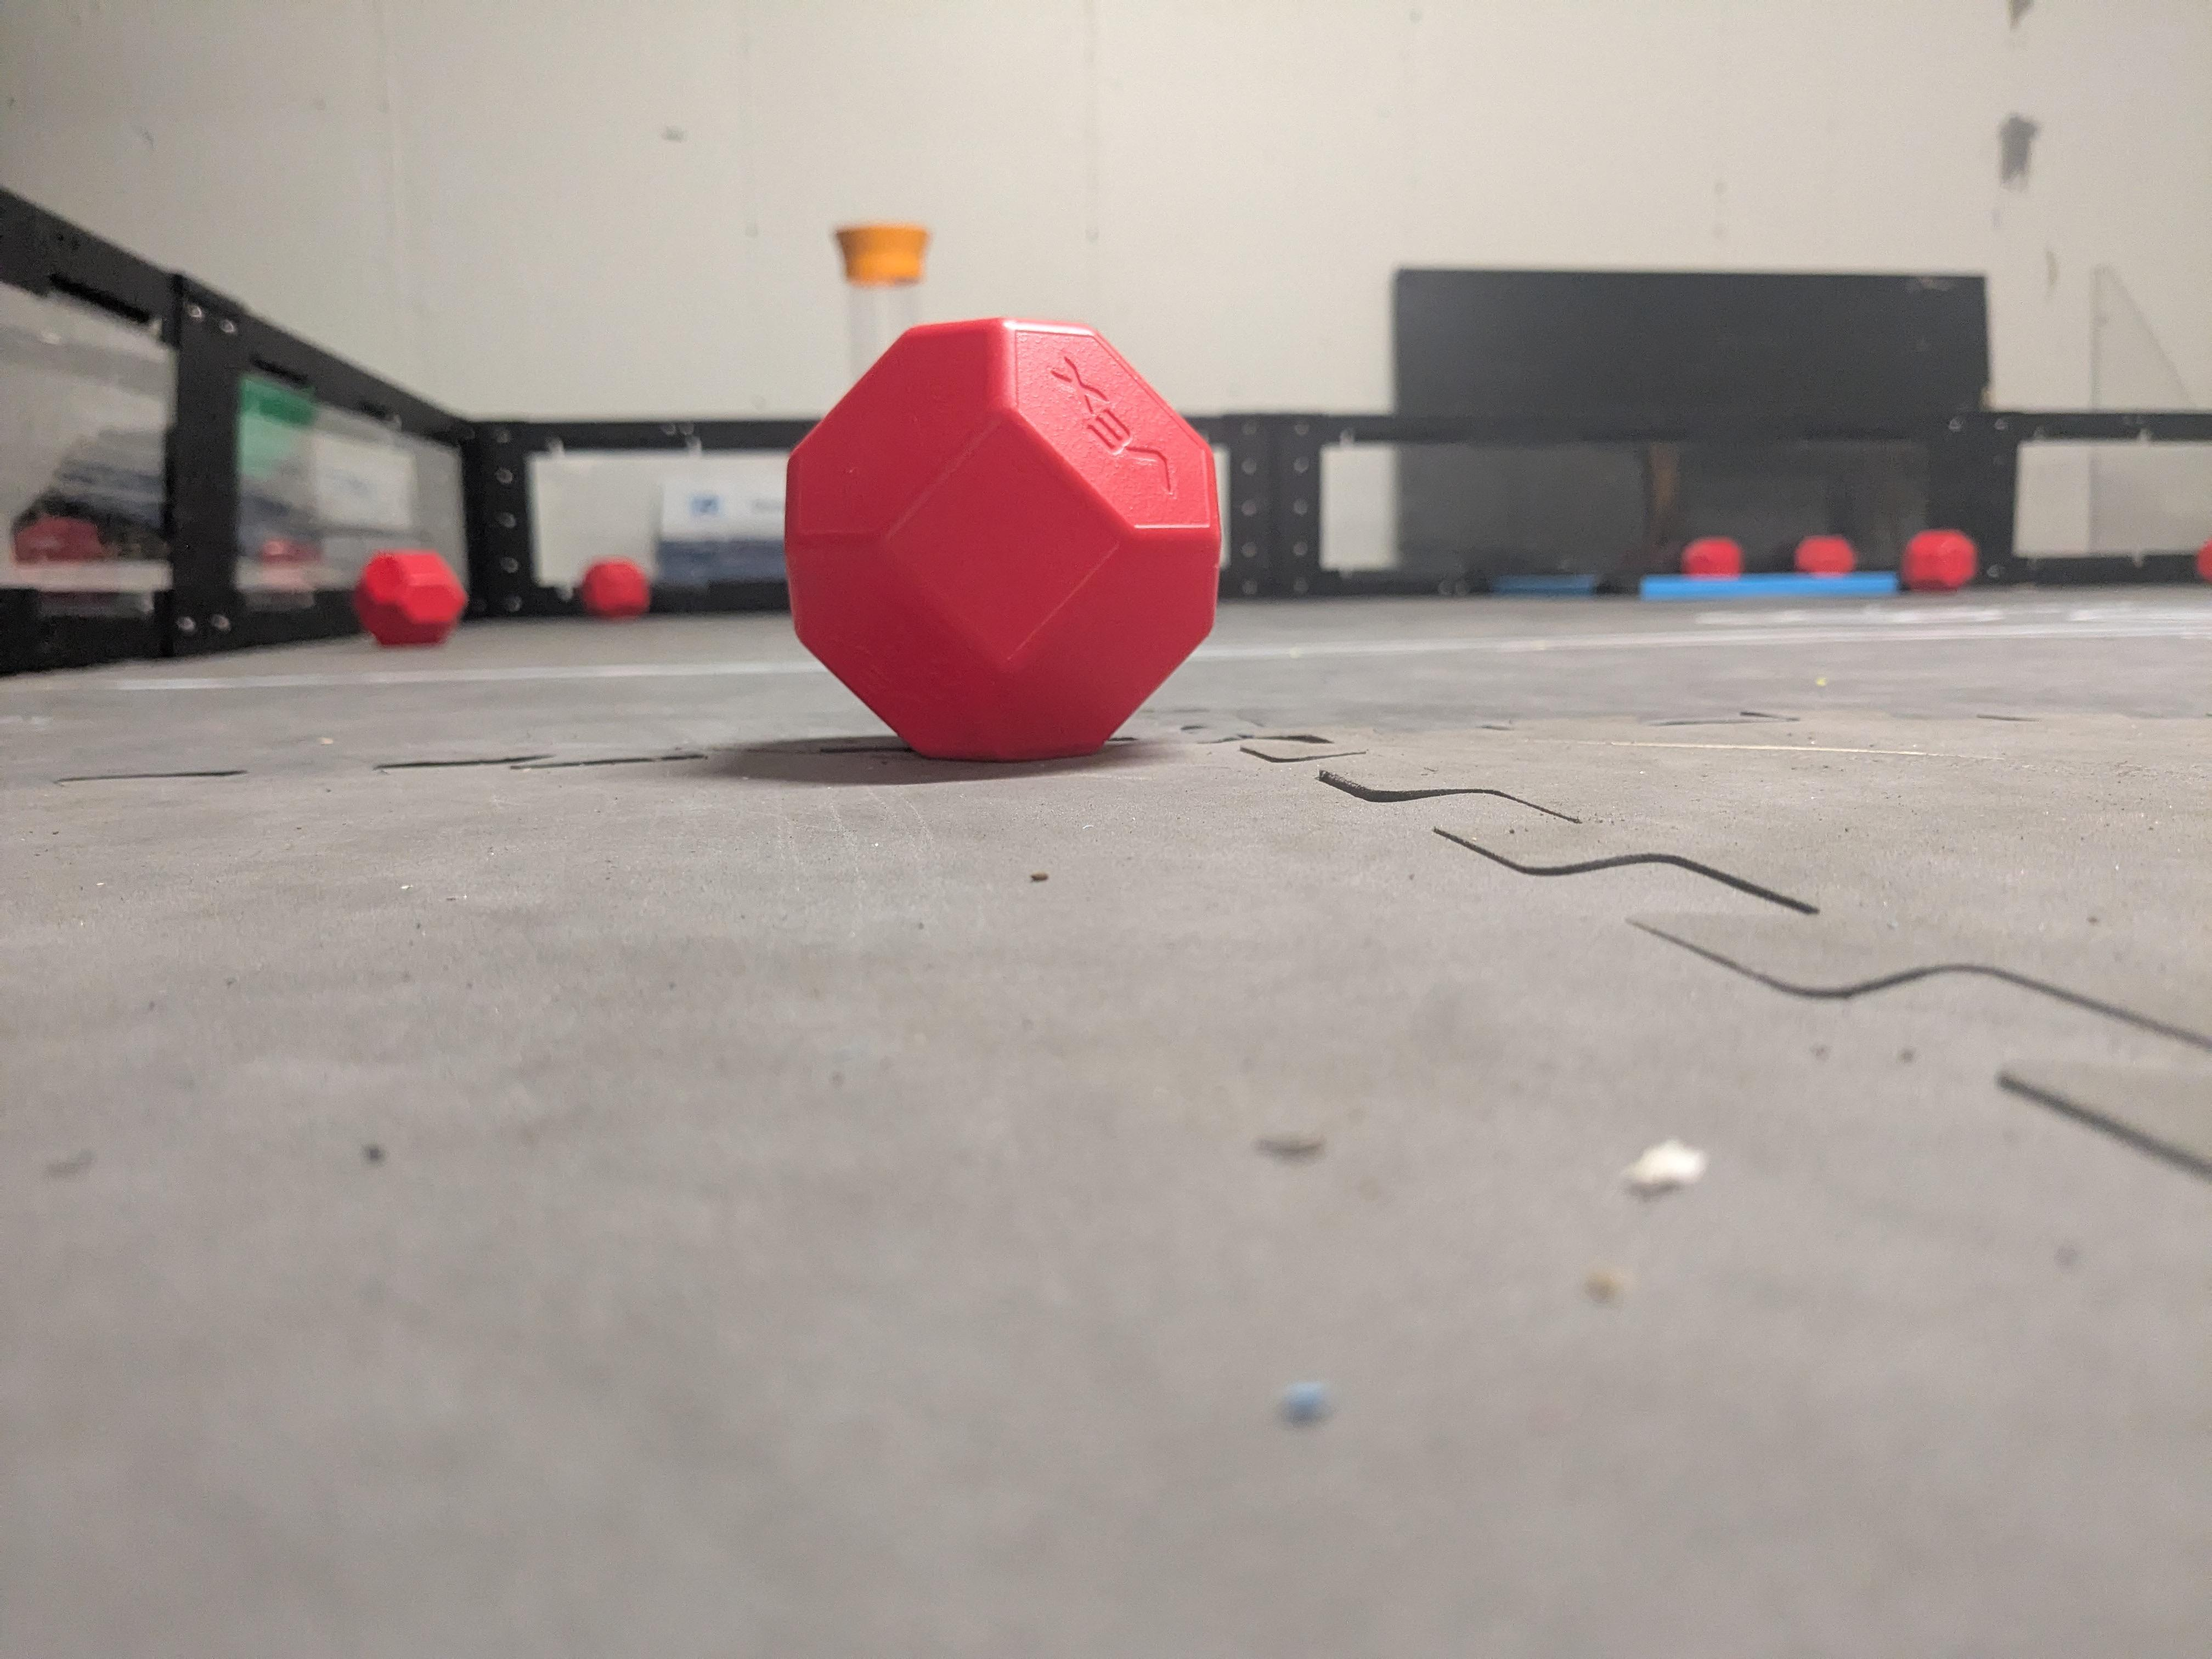Vex-Pieces-RED: (791, 324, 1226, 756)
